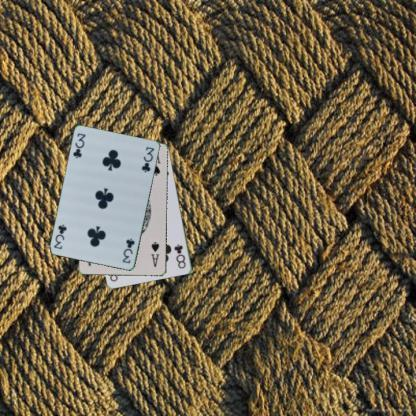3c: (70, 130, 88, 160), (120, 235, 136, 264)
8c: (172, 241, 188, 270)
As: (149, 240, 161, 269)
